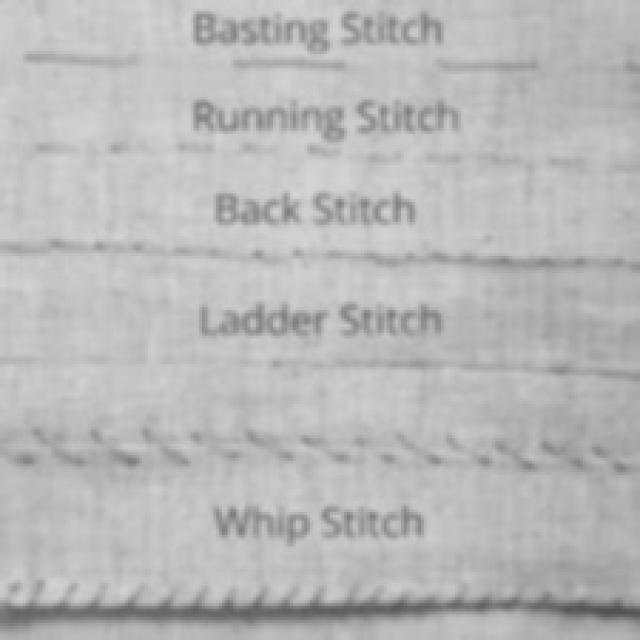stitch: (24, 49, 138, 69), (230, 52, 346, 70), (32, 426, 84, 466), (141, 426, 190, 466), (91, 428, 140, 466), (440, 54, 544, 71), (245, 426, 294, 459), (446, 431, 490, 464), (398, 432, 442, 464), (494, 435, 535, 469), (302, 434, 350, 463), (541, 435, 584, 467), (191, 430, 240, 458), (355, 435, 396, 464), (115, 581, 148, 617), (50, 578, 78, 619), (591, 442, 629, 472), (0, 579, 22, 628), (81, 579, 108, 618), (34, 136, 89, 155), (166, 240, 215, 259), (566, 252, 622, 268), (495, 250, 546, 267), (251, 245, 301, 262), (319, 246, 372, 262), (0, 442, 35, 466), (441, 582, 468, 613), (25, 580, 44, 624), (362, 248, 411, 265), (360, 586, 386, 618), (129, 238, 175, 256), (214, 244, 262, 261), (459, 249, 509, 265), (274, 585, 299, 617), (535, 250, 582, 267), (336, 582, 359, 616), (548, 149, 585, 170), (175, 136, 215, 155), (490, 149, 528, 169), (239, 138, 275, 159), (290, 245, 334, 262), (430, 248, 475, 264), (104, 138, 146, 155), (0, 239, 51, 253), (365, 149, 404, 167), (46, 238, 100, 251), (425, 150, 462, 168), (306, 139, 341, 158), (155, 589, 178, 617), (305, 586, 325, 618), (606, 585, 625, 618), (92, 239, 140, 252), (569, 588, 590, 617), (616, 50, 640, 75), (527, 586, 549, 612), (610, 154, 640, 173), (407, 248, 441, 264), (250, 586, 268, 616), (391, 588, 411, 614), (500, 585, 521, 609), (415, 590, 436, 613), (610, 255, 640, 271), (220, 586, 236, 616), (190, 588, 207, 616), (474, 590, 491, 611)
